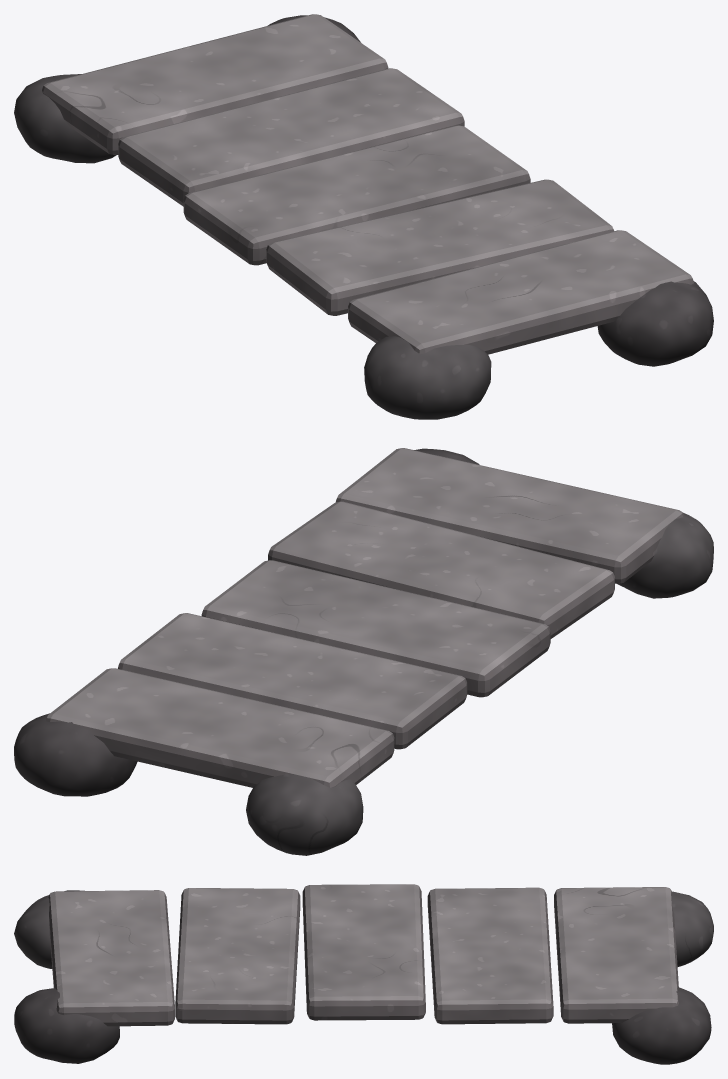
The model's file is stone_bridge.glb.
3 renders of one model, top to bottom at view 1: azimuth 30°, elevation 25°; view 2: azimuth 150°, elevation 25°; view 3: azimuth 270°, elevation 25°, orthographic. The views are drawn at different scales.
Parts seen in each view (by area): view 1: Bridge; view 2: Bridge; view 3: Bridge.
Part boxes in pixels (x1=…): Bridge: x1=14, y1=14, x2=713, y2=419; Bridge: x1=14, y1=448, x2=713, y2=855; Bridge: x1=14, y1=884, x2=713, y2=1064.
Bounding box in the file's own units: 1.77 × 0.3935 × 3.77.
Materials: 1 (1 with a texture image).
